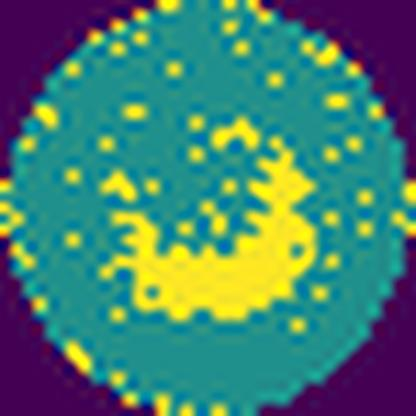Donut: (97, 113, 339, 333)
